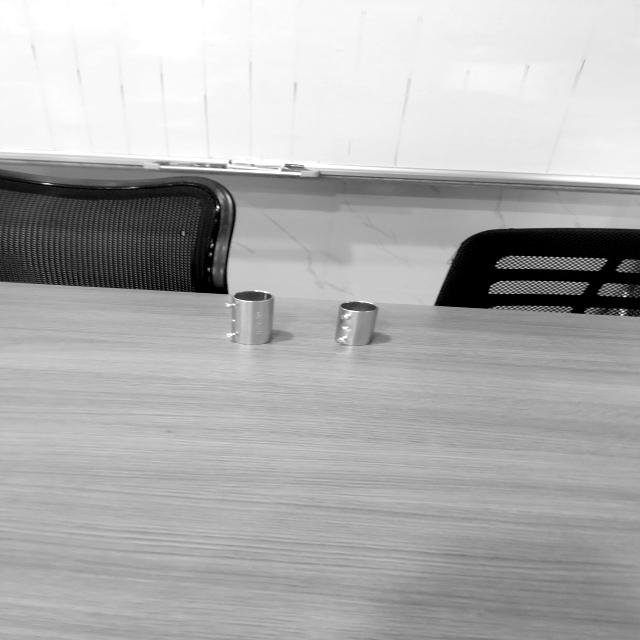Co_Lon: (227, 290, 274, 346)
Co_Nho: (333, 298, 379, 350)
